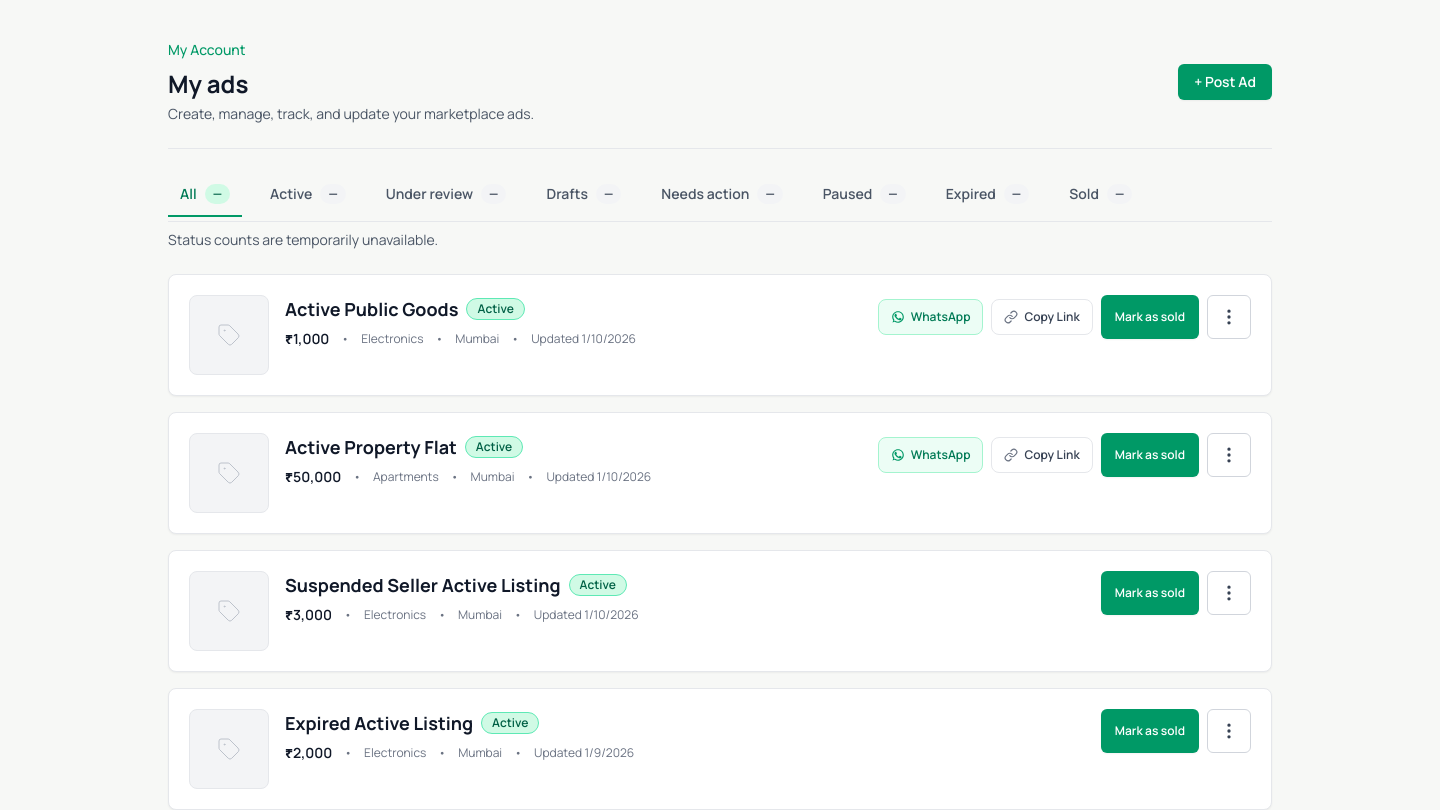
Test: My Ads Dashboard Public Visibility & Lifecycle Actions (LIST-03) › preserves Mark as sold primary action and overflow menu actions for ALL active listings including property and suspended seller listings
Expected: the element "Active Public Goods" is shown, [168,274,1272,396]
Expected: the number of buttons "Mark as sold" is 4, [1101,295,1199,339]; [1101,433,1199,477]; [1101,571,1199,615]; [1101,709,1199,753]
Step 1. Click the button named "More actions" in the row of "Active Public Goods" → (1229, 317), box [1207,295,1251,339]
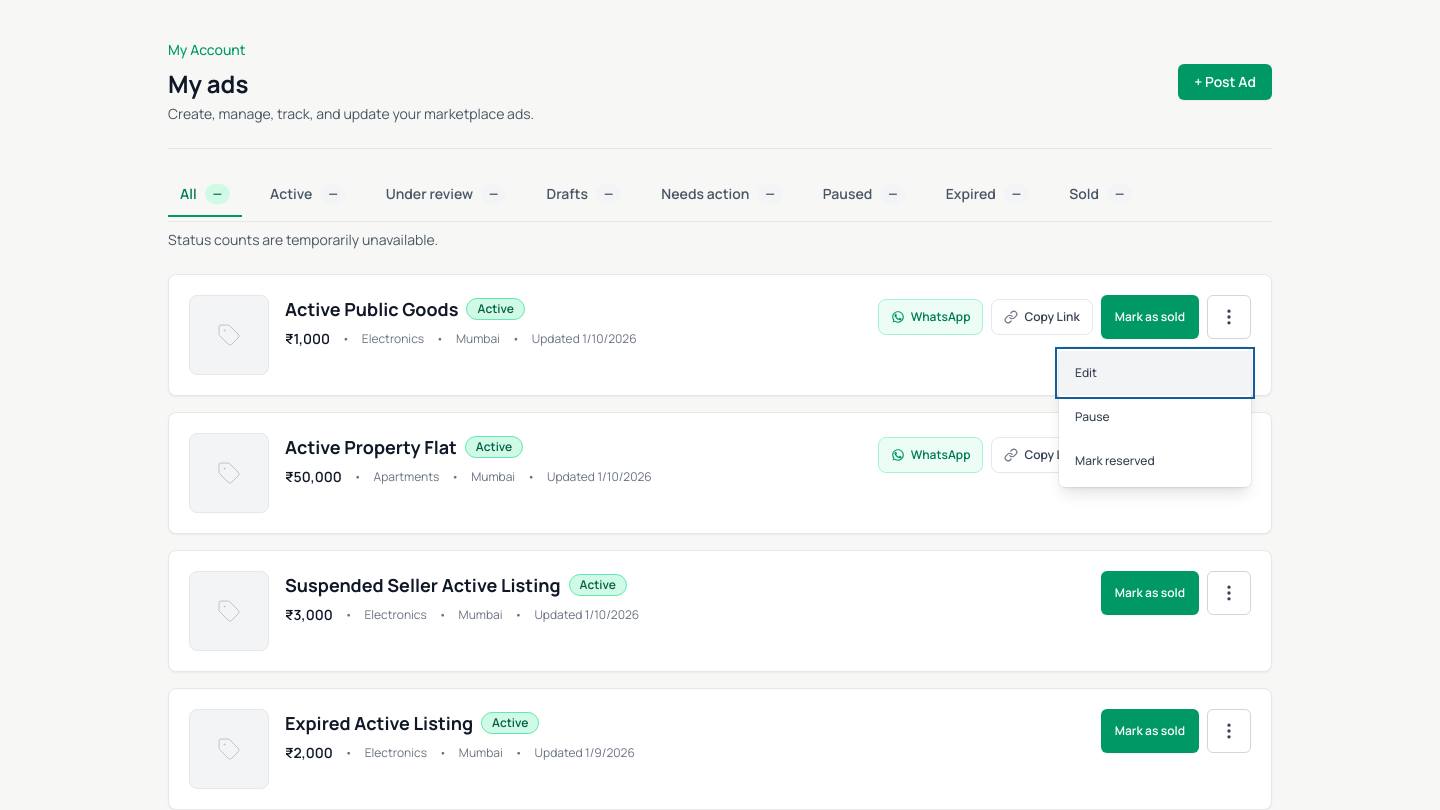
Expected: the menu item "Pause" is shown, [1059,395,1251,439]
Expected: the menu item "Mark reserved" is shown, [1059,439,1251,483]
